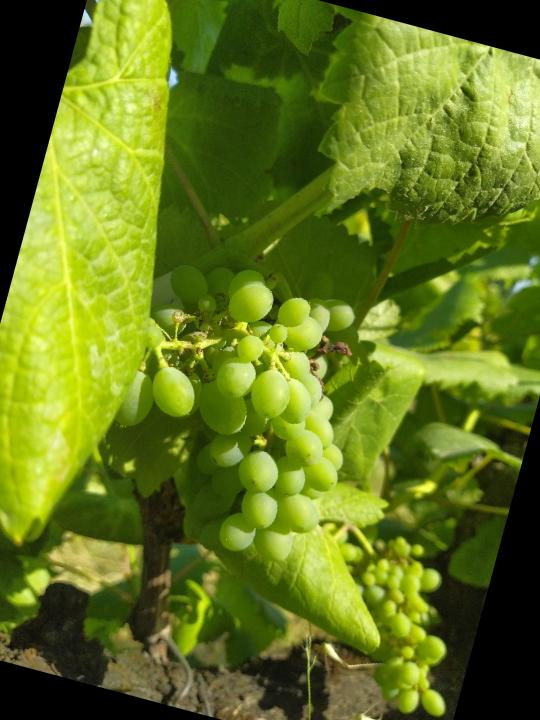grape: (91, 244, 384, 575), (302, 526, 489, 720)
